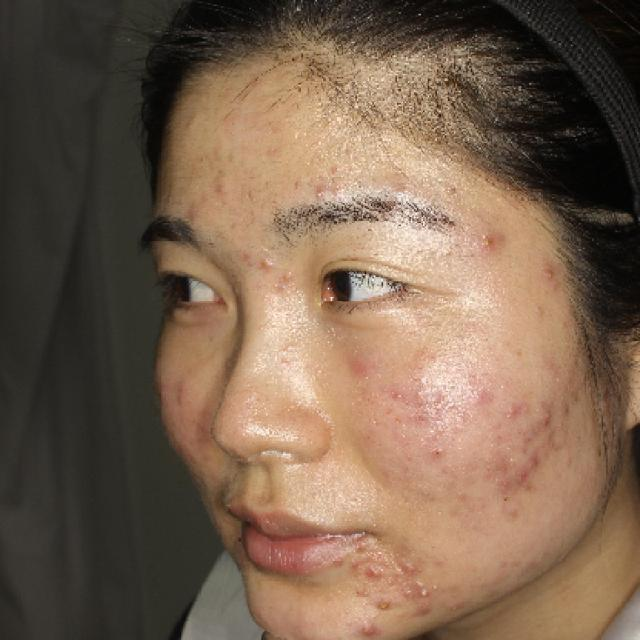Acne: (390, 547, 430, 584), (352, 615, 391, 640), (531, 396, 558, 432), (249, 249, 283, 277), (499, 392, 526, 425), (538, 260, 564, 285), (362, 558, 389, 582), (372, 594, 398, 618), (306, 178, 331, 202), (414, 583, 438, 605)
Whiteheads: (278, 340, 302, 358), (272, 354, 296, 372), (277, 268, 297, 283)
